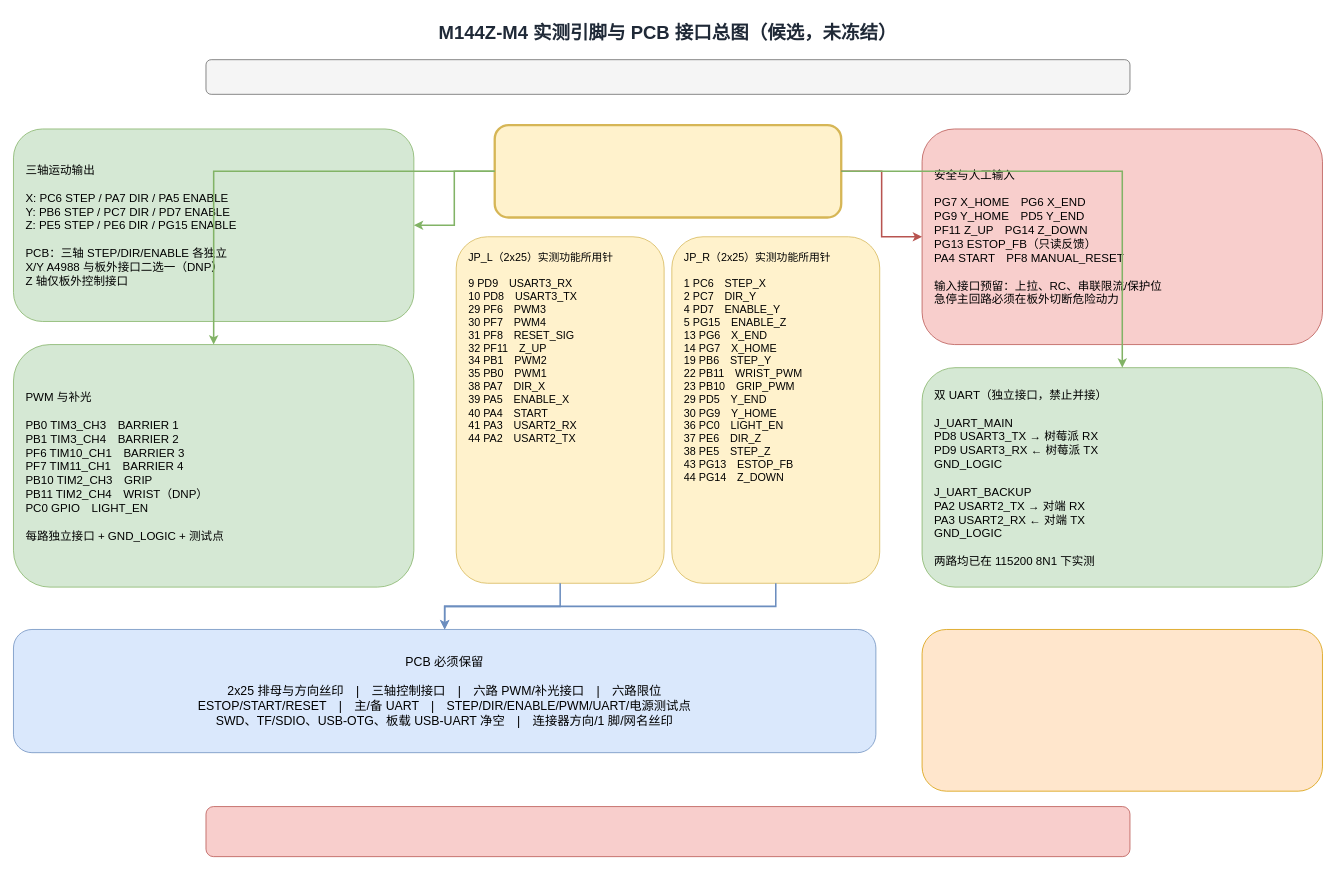
Image size: 1336x870. Some labels were removed from this diagram. Here are the shapes that lost their labels. From the top down, the centre of each, then its label:
At pixel 667 76: "绿色：GPIO/外设功能已实测 黄色：JP_L/JP_R 位置仍待官方资料或万用表连续性验证 红色：安全边界".
At pixel 667 171: "M144Z-M4 Mini Board STM32F407ZGT6 GPIO 功能已实测 排母位置候选、未冻结".
At pixel 1121 710: "板外，不集成到载板 DC/DC 电源模块 树莓派供电模块 舵机大电流电源 Z 轴驱动功率级与电机相线 急停主回路 公共逻辑地连续，不用急停切断 GND".
At pixel 667 831: "冻结前门禁：M144Z-M4 官方针序或连续性验证 + 连接器/板框/安装孔尺寸 + 真实 EDA 原理图 + ERC/逐网审查 + 独立审核".
